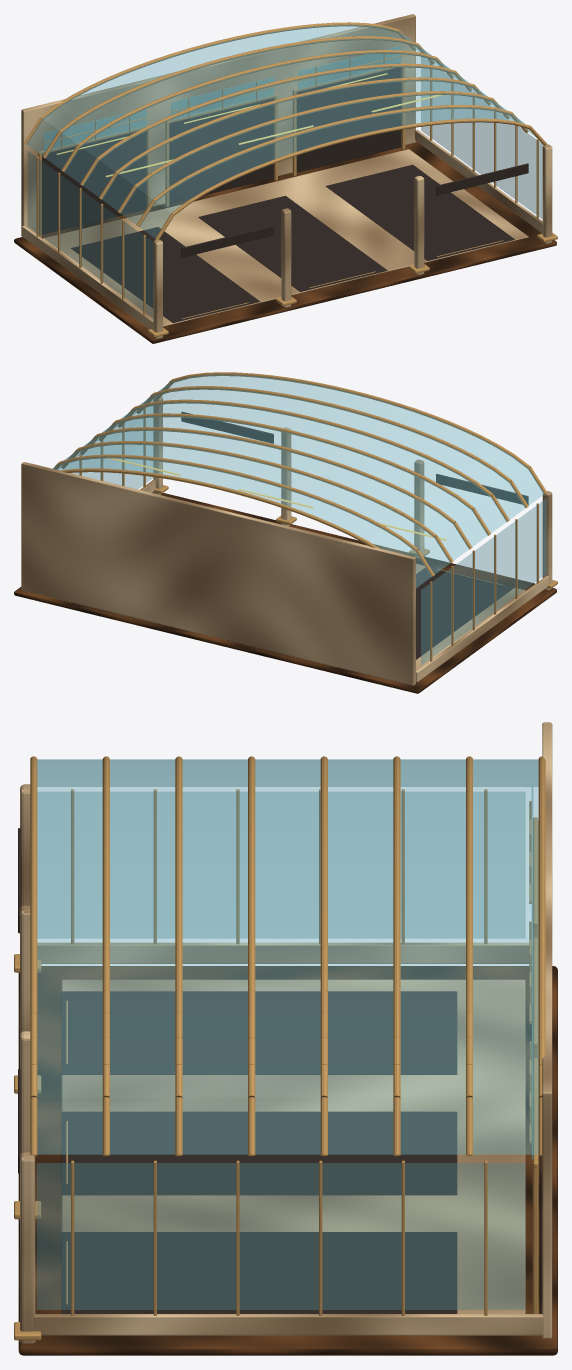
The model's file is hangar.glb.
The picture shows the model from 3 angles, top to bottom: view 1: azimuth 30°, elevation 25°; view 2: azimuth 150°, elevation 25°; view 3: azimuth 270°, elevation 25°; orthographic projection. The views are drawn at different scales.
Visible parts, largest first — view 1: ASSET_HANGAR_ArchitecturalGlass, ASSET_HANGAR_DeepInterior, ASSET_HANGAR_PaleTravertine, ASSET_HANGAR_AgedChampagneBrass, HangarFloorSlab, ASSET_HANGAR_WarmEmissive; view 2: ASSET_HANGAR_PaleTravertine, ASSET_HANGAR_ArchitecturalGlass, ASSET_HANGAR_AgedChampagneBrass, HangarFloorSlab, ASSET_HANGAR_DeepInterior, ASSET_HANGAR_WarmEmissive; view 3: ASSET_HANGAR_ArchitecturalGlass, ASSET_HANGAR_DeepInterior, ASSET_HANGAR_PaleTravertine, ASSET_HANGAR_AgedChampagneBrass, HangarFloorSlab.
Part boxes in pixels (<box>): ASSET_HANGAR_ArchitecturalGlass: <box>27,25,543,317</box>; ASSET_HANGAR_DeepInterior: <box>42,67,528,322</box>; ASSET_HANGAR_PaleTravertine: <box>21,14,552,338</box>; ASSET_HANGAR_AgedChampagneBrass: <box>24,22,557,337</box>; HangarFloorSlab: <box>14,141,556,343</box>; ASSET_HANGAR_WarmEmissive: <box>56,73,442,177</box>; ASSET_HANGAR_PaleTravertine: <box>21,397,552,685</box>; ASSET_HANGAR_ArchitecturalGlass: <box>53,374,546,665</box>; ASSET_HANGAR_AgedChampagneBrass: <box>53,372,557,661</box>; HangarFloorSlab: <box>14,492,556,693</box>; ASSET_HANGAR_DeepInterior: <box>181,411,528,659</box>; ASSET_HANGAR_WarmEmissive: <box>108,458,446,540</box>; ASSET_HANGAR_ArchitecturalGlass: <box>37,759,538,1309</box>; ASSET_HANGAR_DeepInterior: <box>18,828,541,1313</box>; ASSET_HANGAR_PaleTravertine: <box>20,722,552,1343</box>; ASSET_HANGAR_AgedChampagneBrass: <box>14,756,545,1340</box>; HangarFloorSlab: <box>18,966,557,1355</box>.
Size of the model in its own units: 25 by 9.2 by 15.
6 materials, 2 textured.
